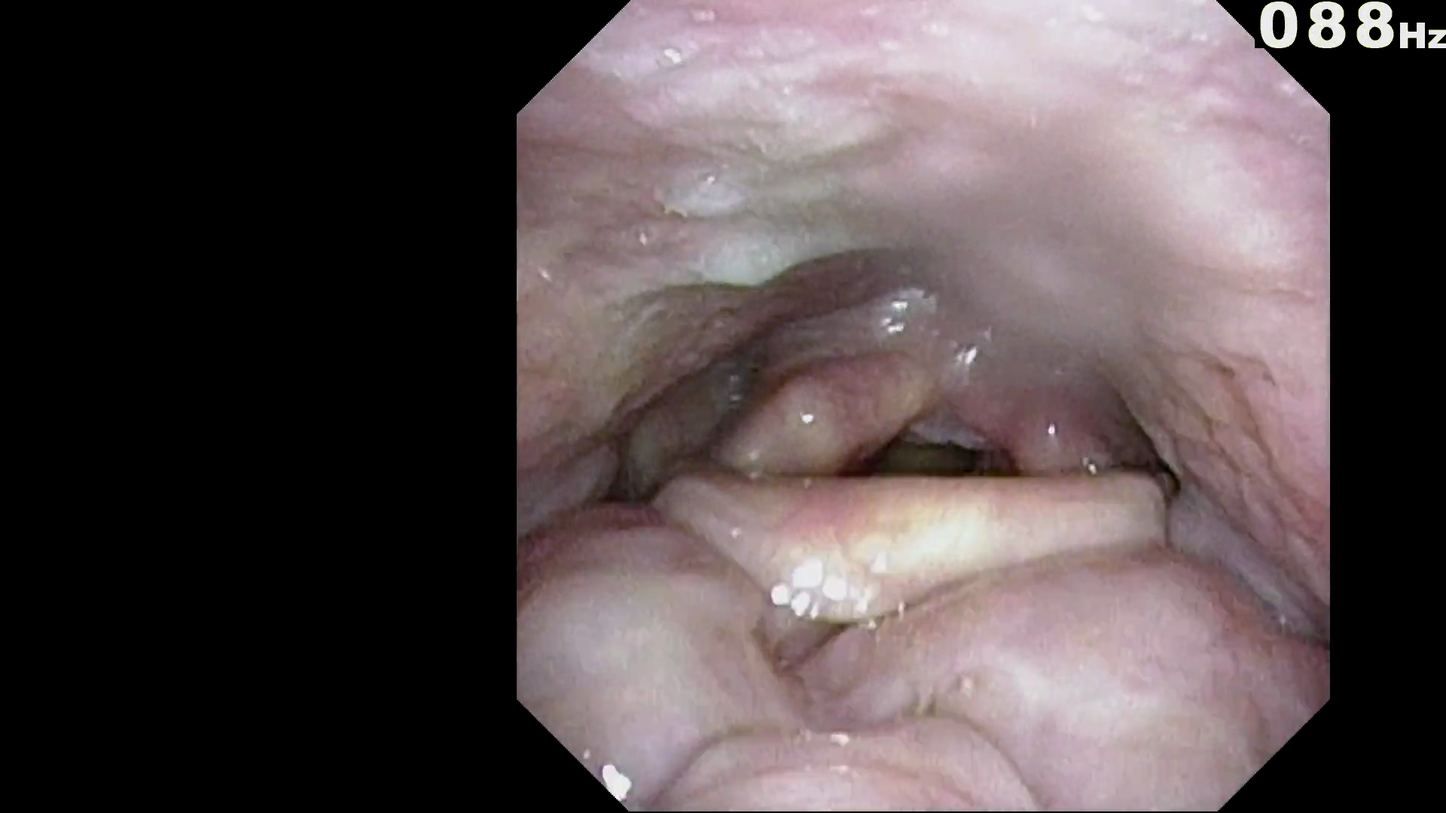epiglottis: (633, 465, 1162, 619)
trachea: (859, 417, 982, 514)
